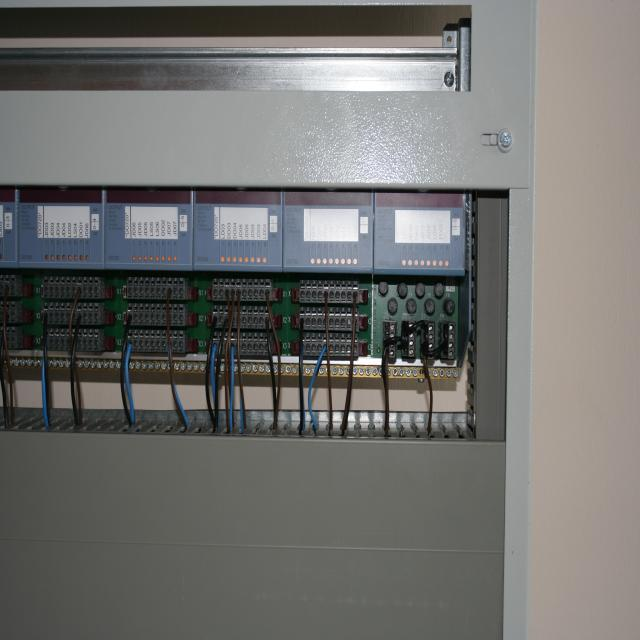SPS_System_Steuerungskomponente: (374, 190, 467, 274), (283, 191, 373, 271), (104, 188, 192, 269), (193, 190, 282, 270), (18, 187, 104, 268)
